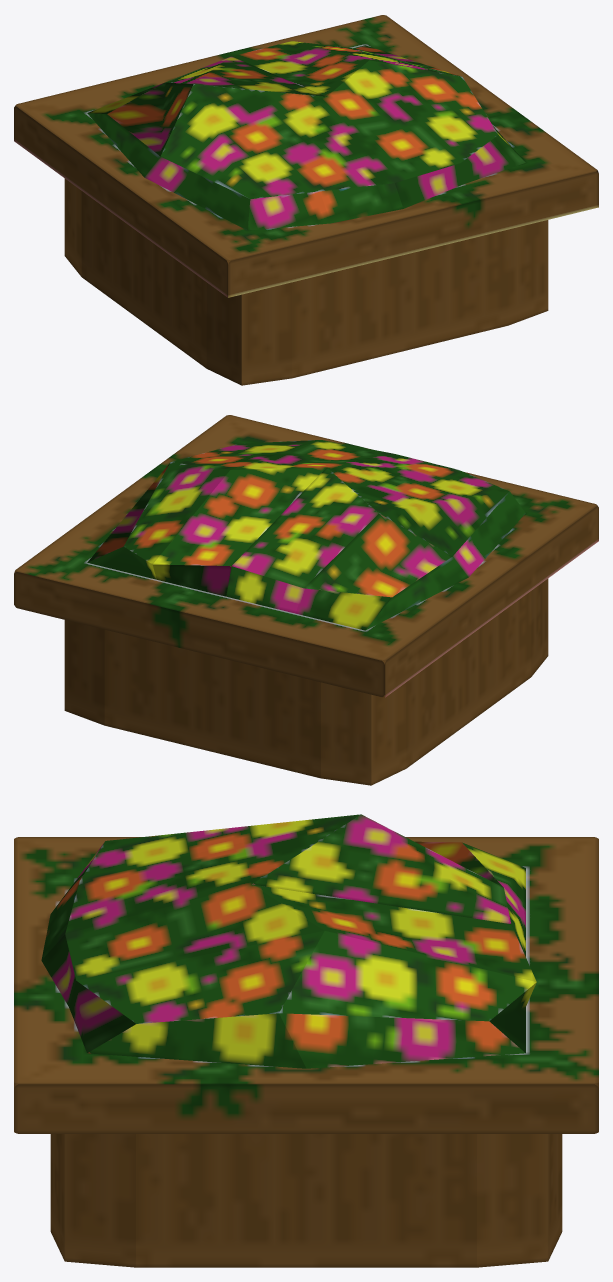
File: Planters.fbx
3 renders of one model, top to bottom at view 1: azimuth 30°, elevation 25°; view 2: azimuth 150°, elevation 25°; view 3: azimuth 270°, elevation 25°, orthographic. The views are drawn at different scales.
Visible parts, largest first — view 1: Planter; view 2: Planter; view 3: Planter.
Part boxes in pixels (left/top/right/bottom): Planter: left=14, top=15, right=598, bottom=385; Planter: left=14, top=415, right=598, bottom=785; Planter: left=14, top=814, right=598, bottom=1267.
Bounding box in the file's own units: 100 × 53.44 × 100.
1 material, 1 textured.
